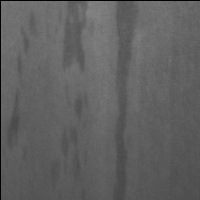inclusion: (102, 2, 141, 200), (6, 13, 41, 165), (47, 127, 95, 199), (61, 1, 89, 75), (64, 82, 90, 124)
